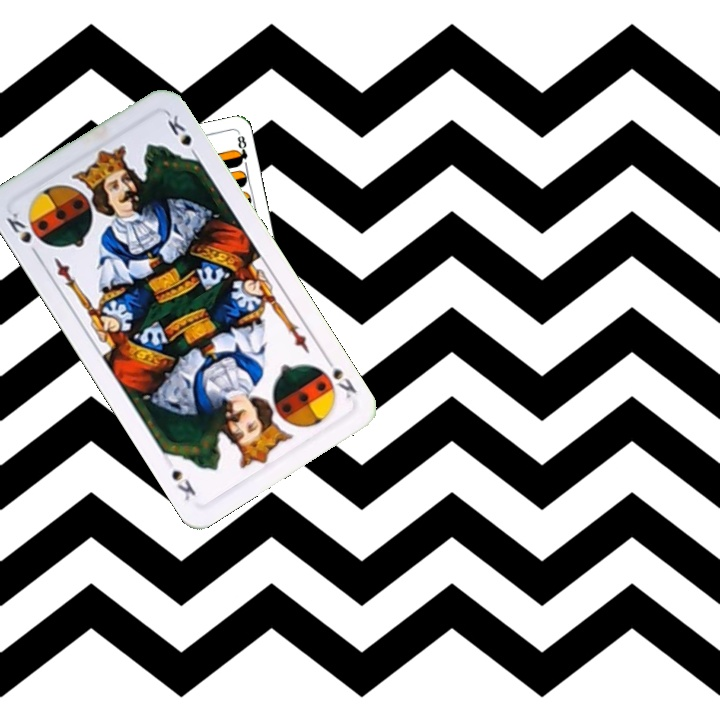SK: (2, 208, 47, 261), (313, 351, 360, 401)
